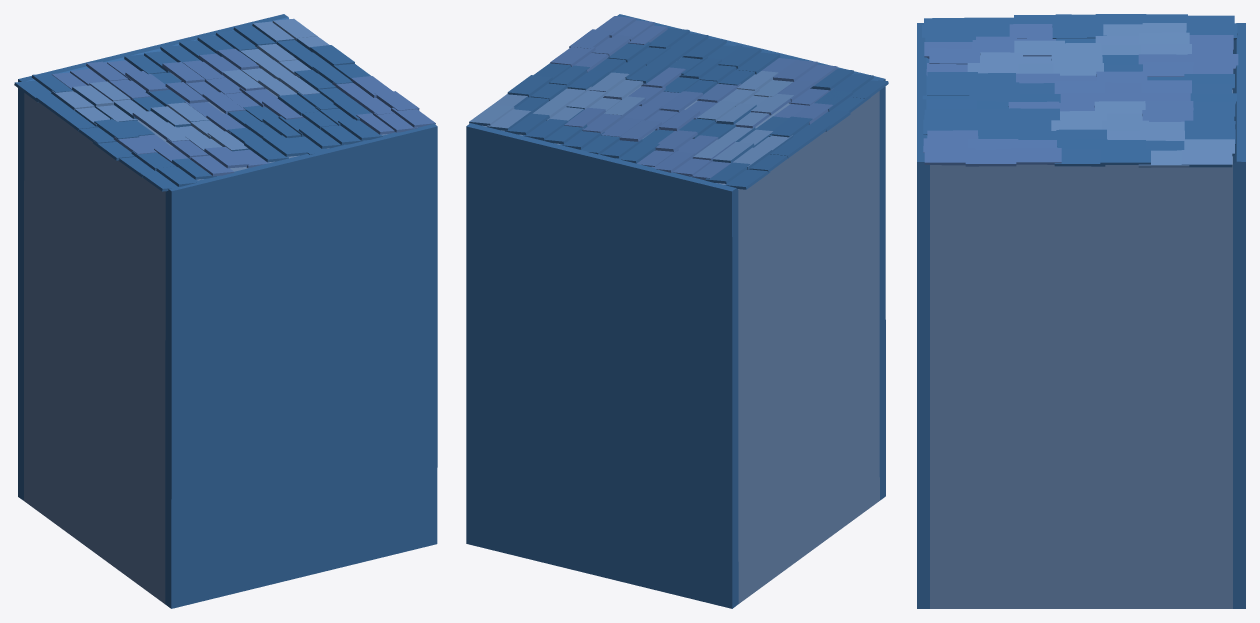
The model's file is Roof_Top.fbx.
3 renders of one model, left to right at view 1: azimuth 30°, elevation 25°; view 2: azimuth 150°, elevation 25°; view 3: azimuth 270°, elevation 25°, orthographic. The views are drawn at different scales.
Parts seen in each view (by area): view 1: Roof_Top; view 2: Roof_Top; view 3: Roof_Top.
Part boxes in pixels (x1,y1,x2,y2): Roof_Top: [14, 14, 437, 608]; Roof_Top: [466, 14, 888, 608]; Roof_Top: [917, 14, 1245, 608].
Size of the model in its own units: 211 by 200 by 305.
